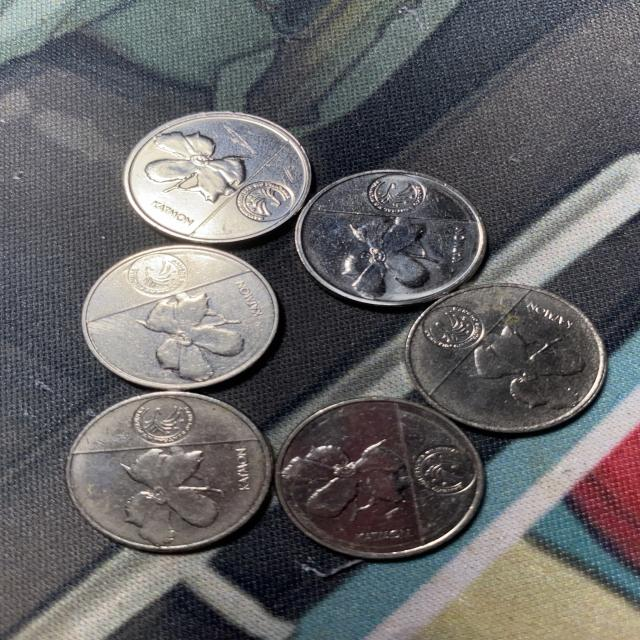25Cent_New_Back: (68, 395, 272, 549), (281, 401, 484, 547), (76, 245, 284, 384), (303, 174, 482, 305), (417, 292, 591, 421), (128, 114, 310, 235)
